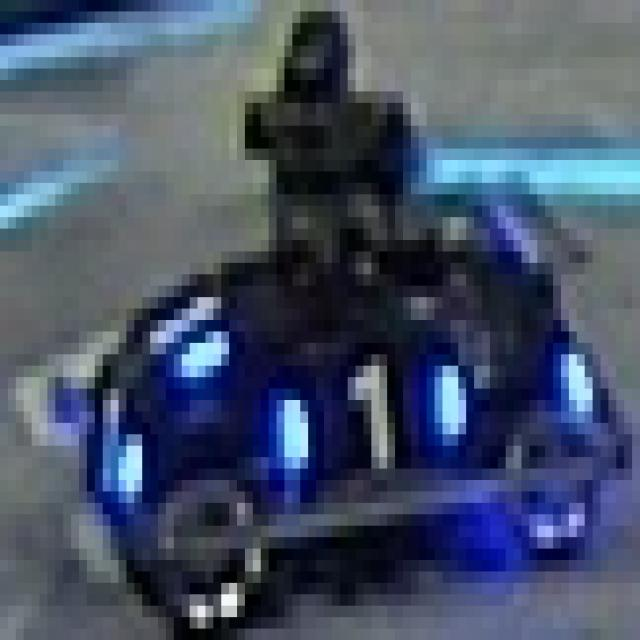B1: (269, 354, 466, 492), (126, 263, 222, 411), (71, 366, 150, 514)
